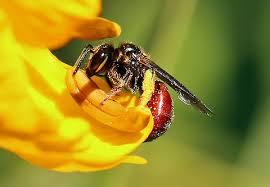Allodapula: (68, 32, 219, 151)
